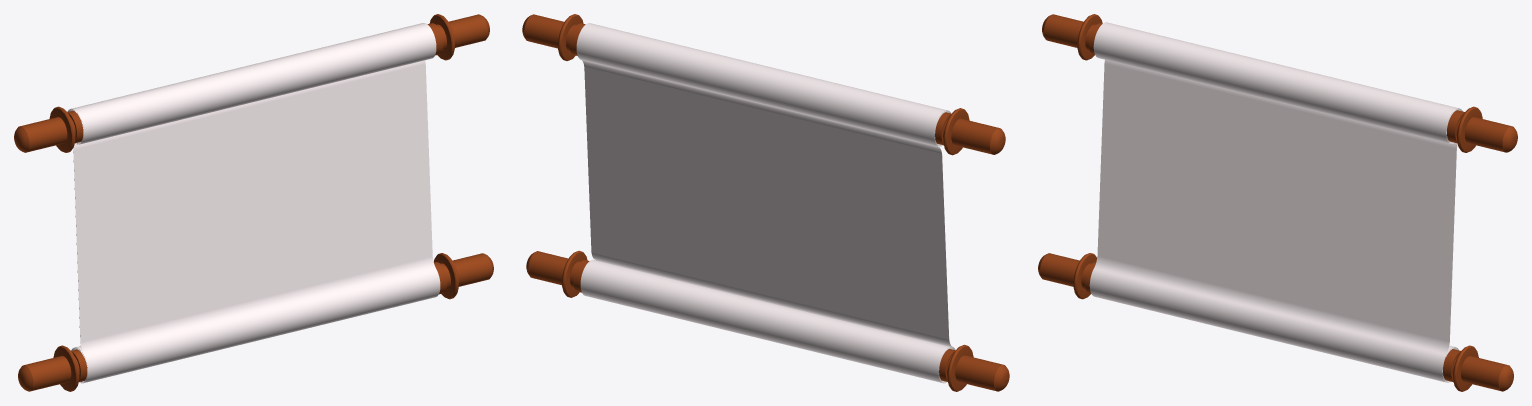
The model's file is Pergamino.fbx.
3 views of the same model, side by side, from view 1: azimuth 30°, elevation 25°; view 2: azimuth 150°, elevation 25°; view 3: azimuth 330°, elevation 25° (orthographic).
Visible parts, largest first — view 1: Line002, Cylinder002, Cylinder003; view 2: Line002, Cylinder002, Cylinder003; view 3: Line002, Cylinder002, Cylinder003.
Boxes of the visible parts, bbox=[...] form: Line002: bbox=[67, 23, 440, 383]; Cylinder002: bbox=[14, 14, 489, 152]; Cylinder003: bbox=[18, 253, 493, 391]; Line002: bbox=[576, 23, 955, 383]; Cylinder002: bbox=[522, 14, 1005, 155]; Cylinder003: bbox=[526, 250, 1009, 391]; Line002: bbox=[1089, 22, 1462, 382]; Cylinder002: bbox=[1042, 14, 1517, 152]; Cylinder003: bbox=[1038, 253, 1513, 391].
Bounding box in the file's own units: 33.36 × 18.93 × 3.37.
1 material, 1 textured.
